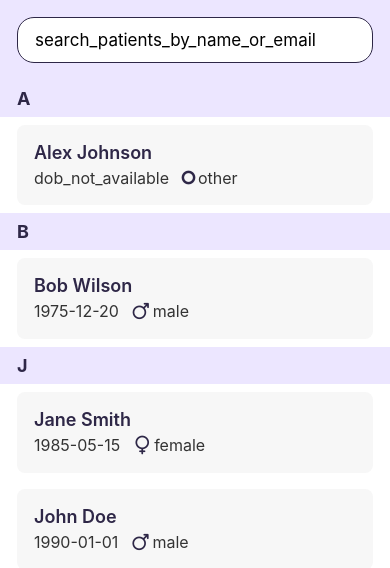
Test: Patients › Search Functionality › should be case insensitive
Type "JANE" into the field with placeholder "search_patients_by_name_or_email" at (195, 40), box [17,17,373,63]
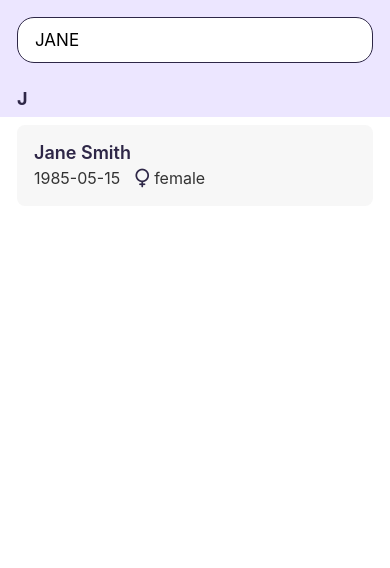
Check: the text "Jane Smith" is shown, box [34,142,131,163]
Check: the text "John Doe" is gone
